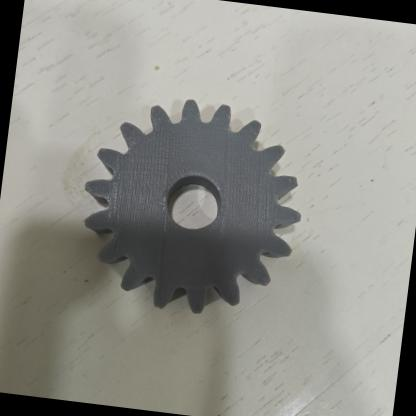gear: (71, 88, 313, 324)
